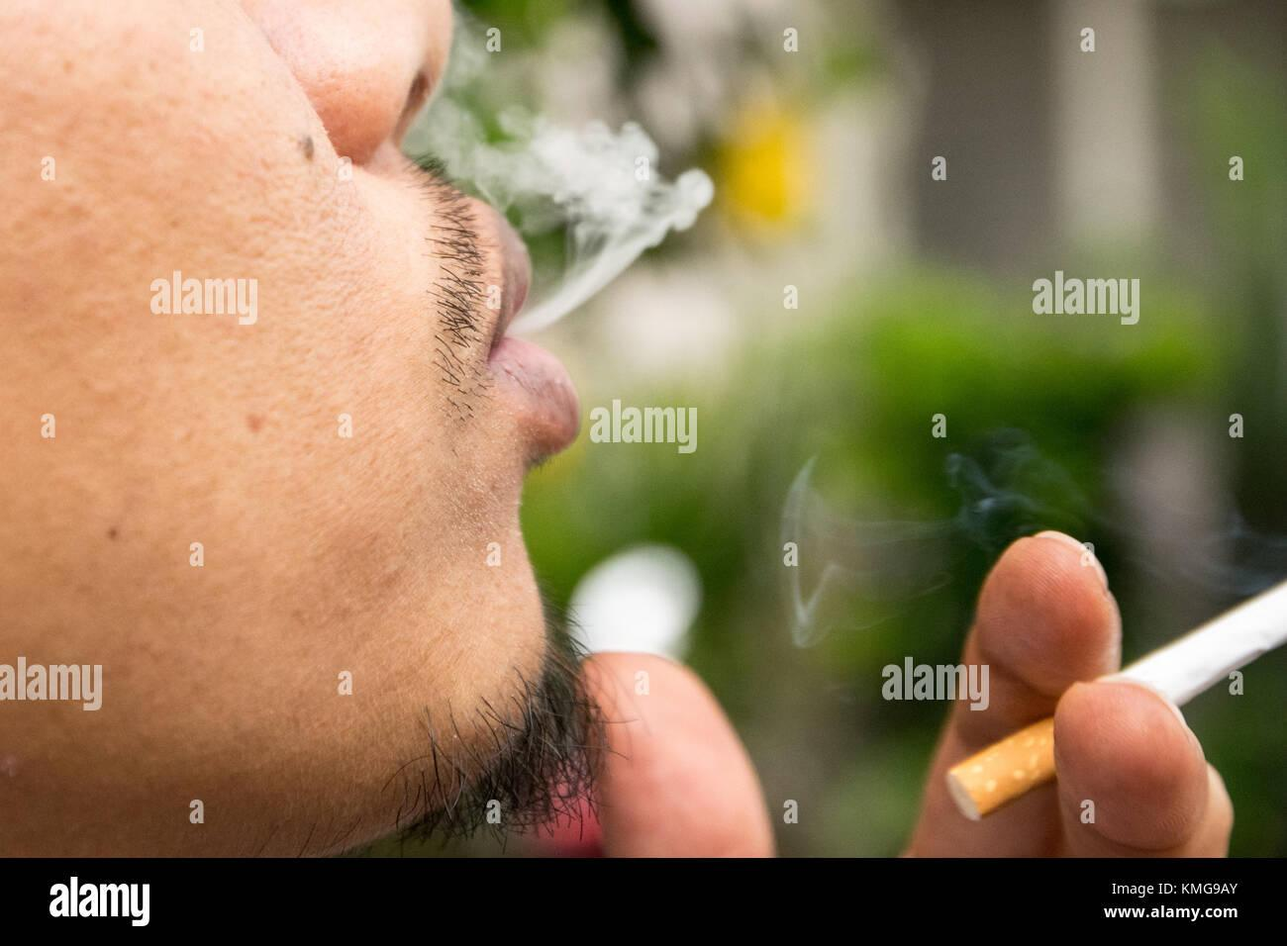cigarette: (1103, 582, 1286, 705)
